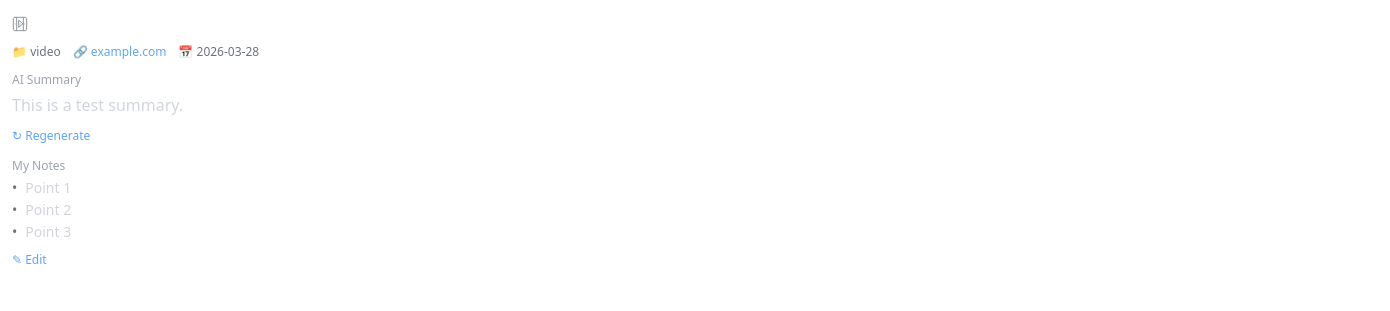
ChapterCard › closes editing mode after Save is clicked
Click the button "✎ Edit". click: (29, 260)
box: [12,252,47,268]
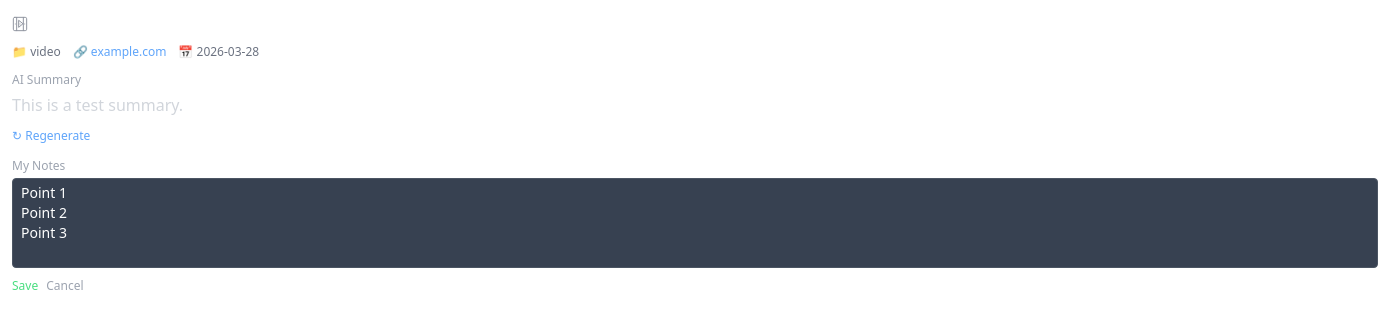
Now the text box is shown, box [12,178,1378,268]
Click the button "Save". click: (25, 286)
box: [12,278,38,294]
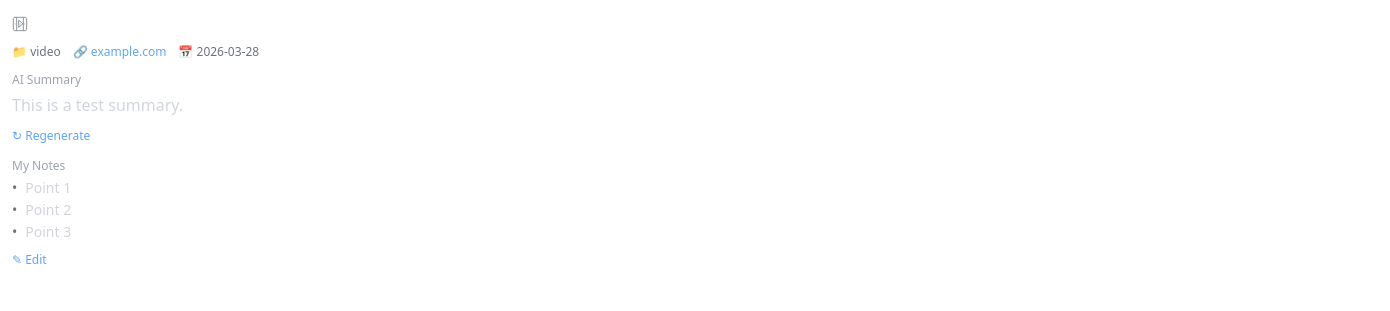
Now the button "✎ Edit" is shown, box [12,252,47,268]
